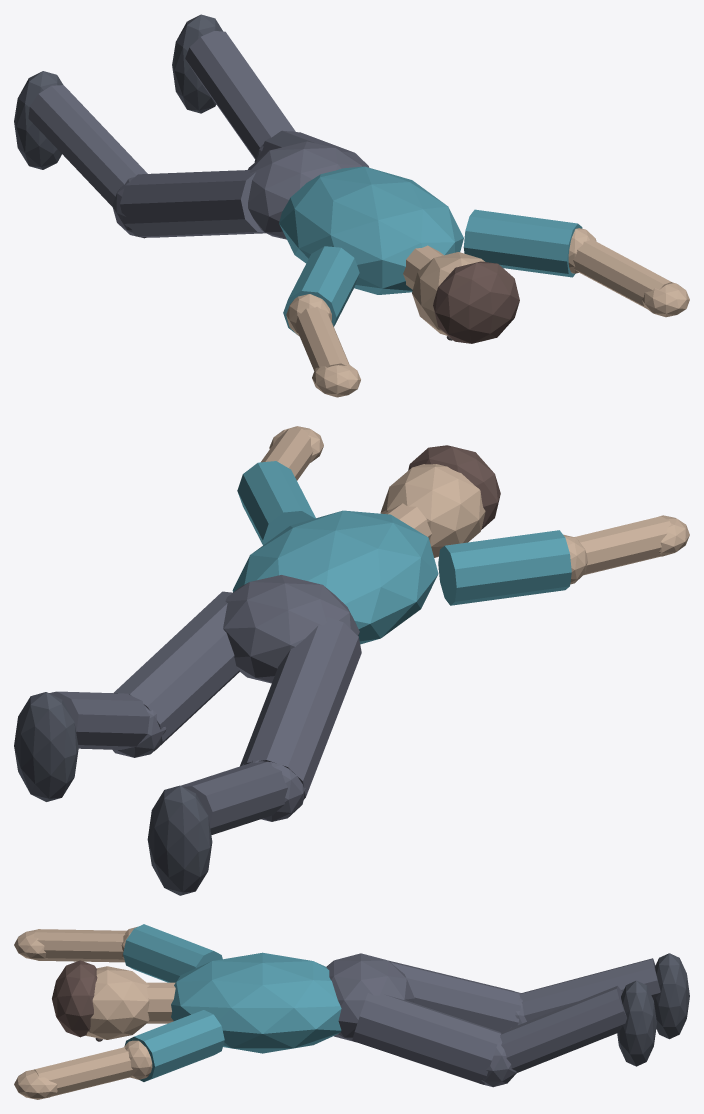
The picture shows the model from 3 angles, top to bottom: view 1: azimuth 30°, elevation 25°; view 2: azimuth 150°, elevation 25°; view 3: azimuth 270°, elevation 25°; orthographic projection. The views are drawn at different scales.
Parts seen in each view (by area): view 1: world; view 2: world; view 3: world.
Boxes of the visible parts, x1,y1,x2,y2 form: world: (14, 14, 689, 397); world: (14, 426, 689, 895); world: (14, 924, 689, 1099).
Bounding box in the file's own units: 1.17 × 0.4125 × 2.13.
